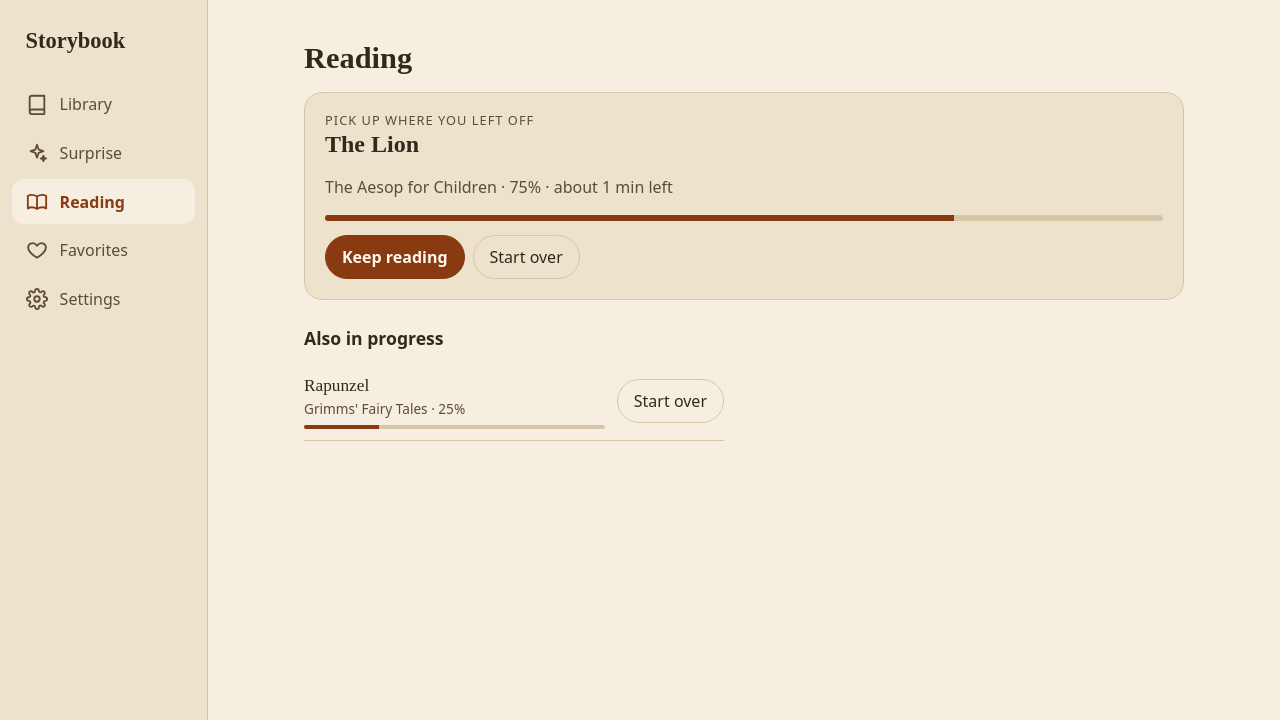
ReadingPage › Start over on the shelf forgets the place and opens the story at the top
Click the button with aria-label "Start The Lion over" at (526, 258), box left=472, top=236, right=580, bottom=280
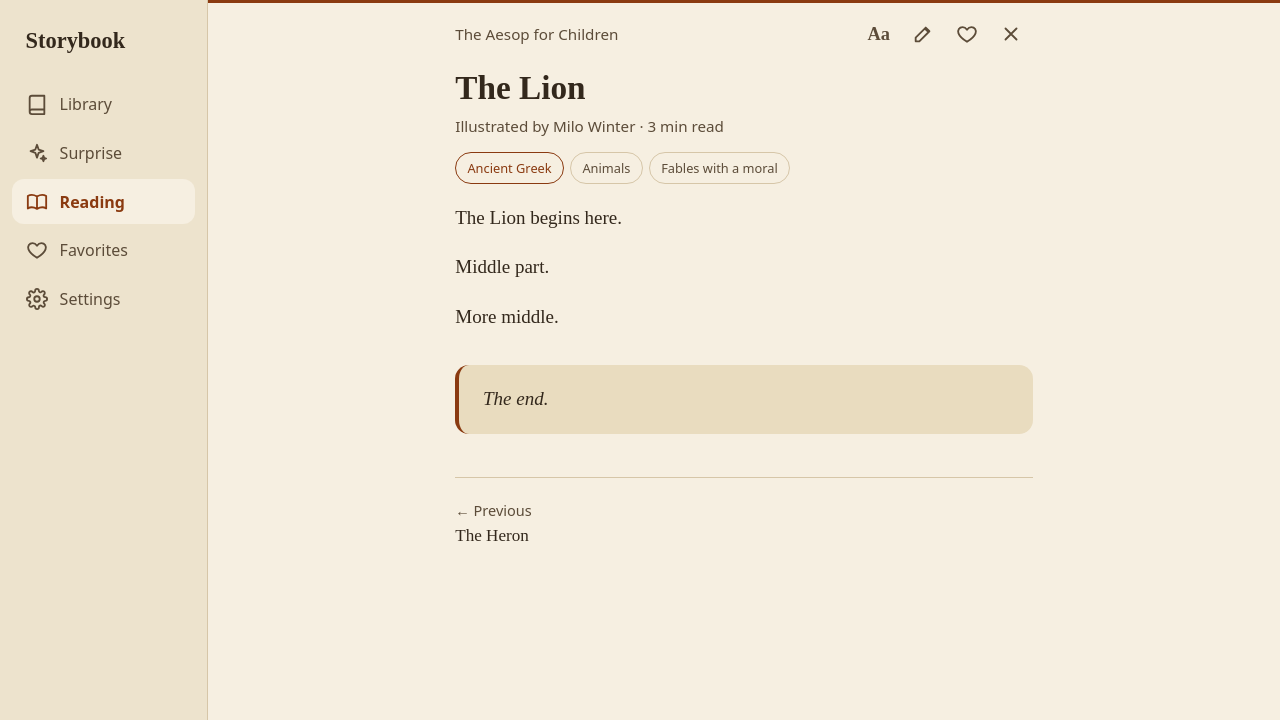
Expected: the text "The Lion begins here." is shown, left=455, top=207, right=622, bottom=228
